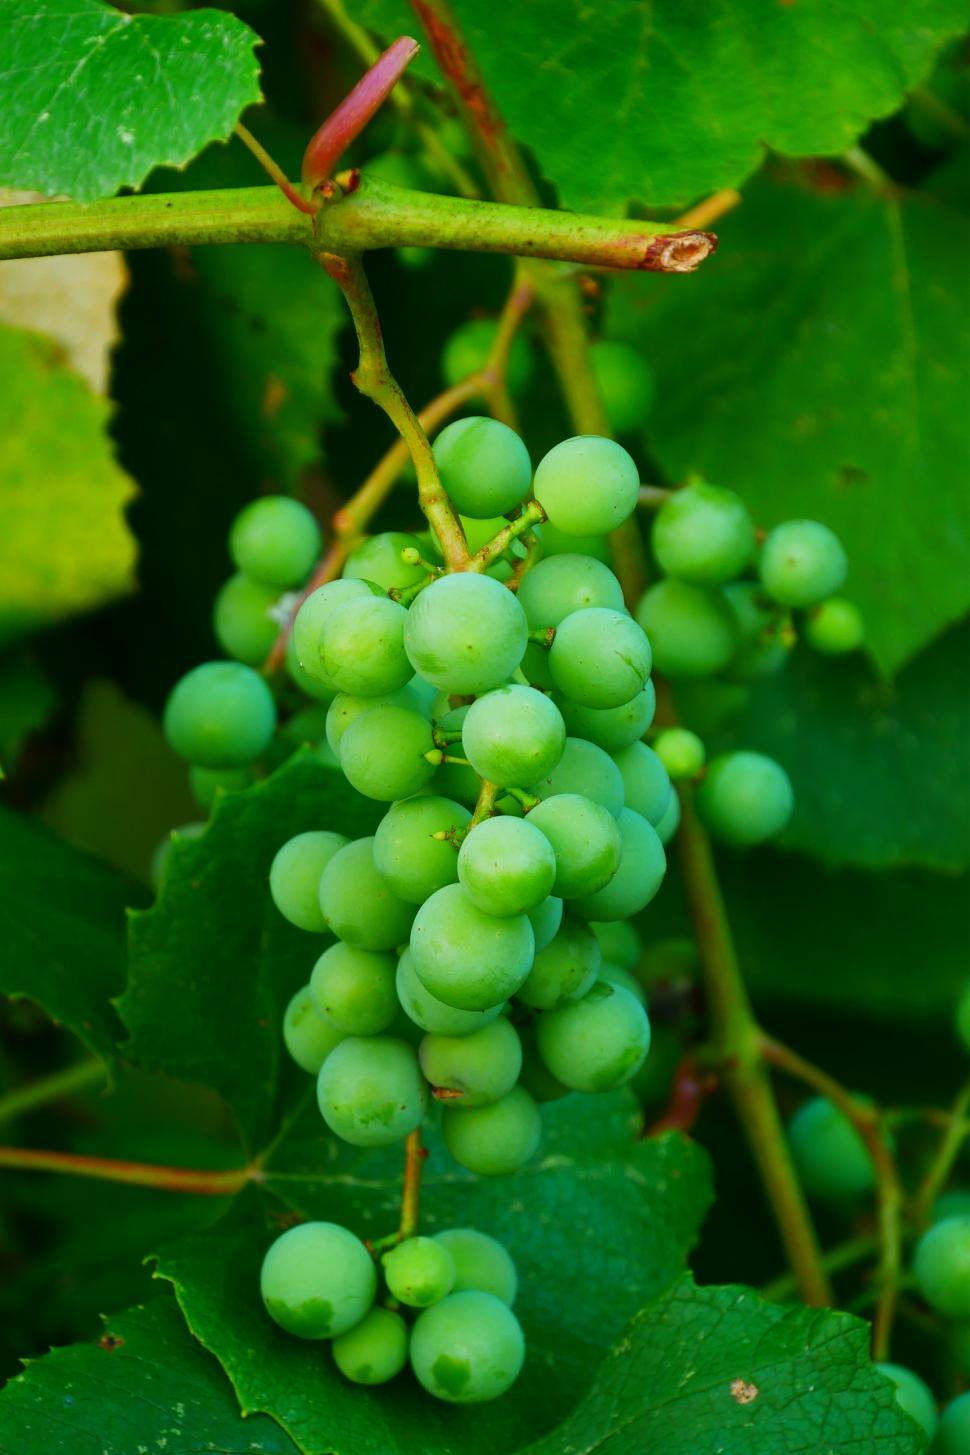grapes: (168, 409, 786, 1413)
